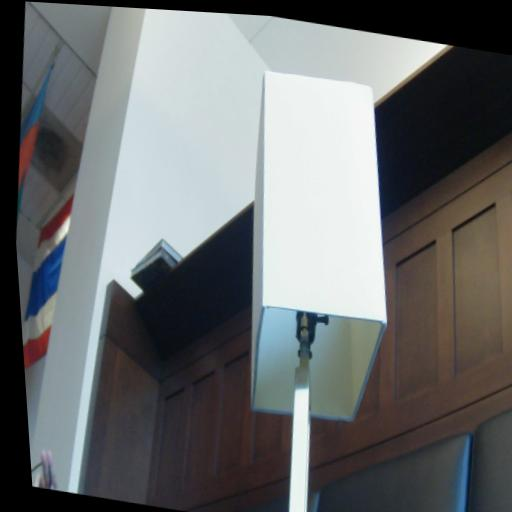lamp: (210, 62, 426, 512)
